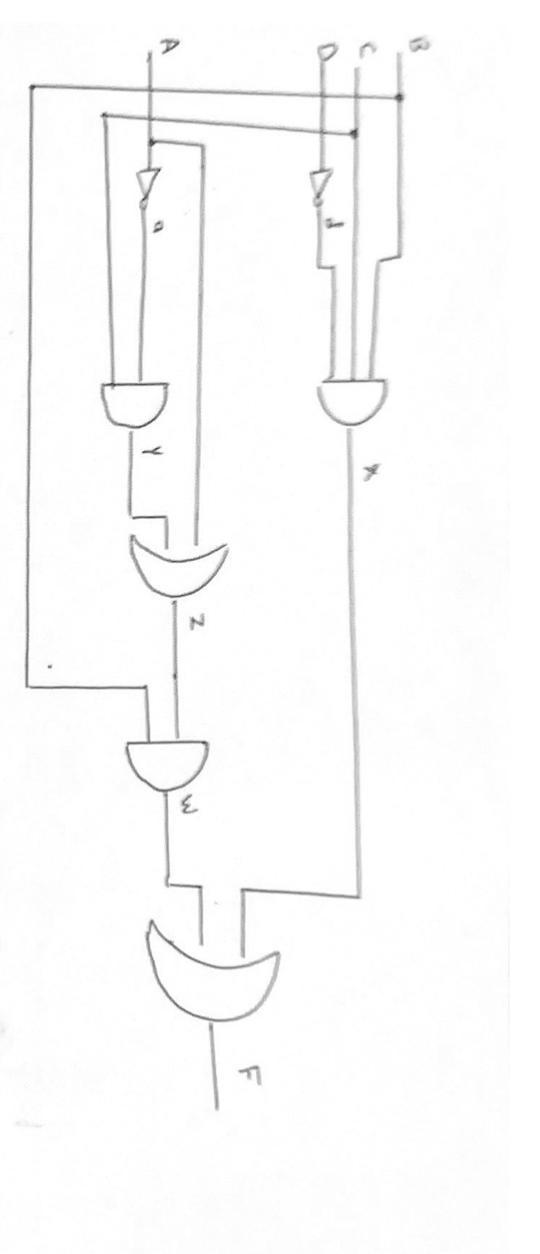AND: (105, 720, 230, 797), (305, 358, 404, 436), (87, 365, 176, 438)
NOT: (127, 155, 175, 214), (298, 155, 339, 205)
OR: (128, 915, 295, 1037), (110, 526, 245, 605)
